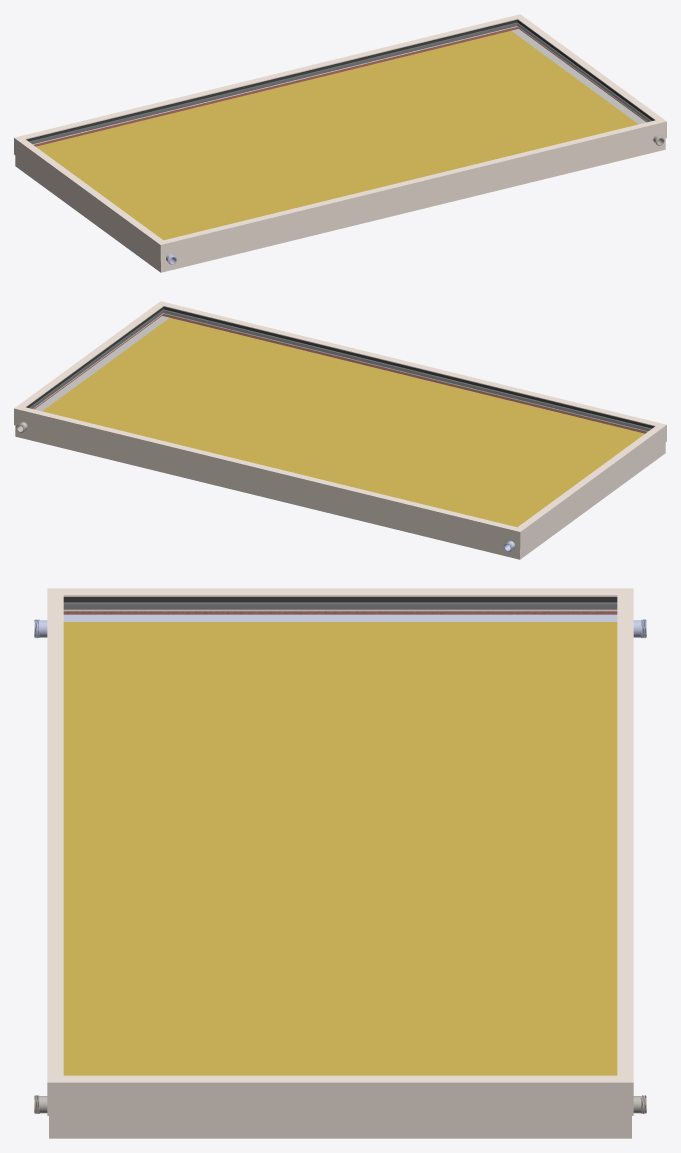
The model's file is solar-collector.glb.
The picture shows the model from 3 angles, top to bottom: view 1: azimuth 30°, elevation 25°; view 2: azimuth 150°, elevation 25°; view 3: azimuth 270°, elevation 25°; orthographic projection. The views are drawn at different scales.
Parts seen in each view (by area): view 1: Glass Cover-1, Absorber Plate-1, Case Top-1, Case Bottom^Case Assembly-1, Junta Glass bottom-1, Junta Glass Top-1, Side Insulation^Insulation_Solar Panel-1, Tuberia-1; view 2: Glass Cover-1, Absorber Plate-1, Case Top-1, Case Bottom^Case Assembly-1, Junta Glass bottom-1, Junta Glass Top-1, Side Insulation^Insulation_Solar Panel-1, Tuberia-1; view 3: Glass Cover-1, Absorber Plate-1, Case Top-1, Case Bottom^Case Assembly-1, Tuberia-2, Junta Glass bottom-1, Junta Glass Top-1, Side Insulation^Insulation_Solar Panel-1.
Part boxes in pixels (bbox=[...]): Glass Cover-1: bbox=[29, 22, 651, 239]; Absorber Plate-1: bbox=[36, 31, 638, 240]; Case Top-1: bbox=[14, 14, 666, 261]; Case Bottom^Case Assembly-1: bbox=[15, 26, 665, 272]; Junta Glass bottom-1: bbox=[29, 22, 651, 144]; Junta Glass Top-1: bbox=[26, 19, 654, 141]; Side Insulation^Insulation_Solar Panel-1: bbox=[34, 27, 647, 146]; Tuberia-1: bbox=[511, 29, 664, 145]; Glass Cover-1: bbox=[29, 309, 651, 526]; Absorber Plate-1: bbox=[42, 318, 644, 527]; Case Top-1: bbox=[14, 301, 666, 548]; Case Bottom^Case Assembly-1: bbox=[15, 313, 665, 559]; Junta Glass bottom-1: bbox=[29, 309, 651, 431]; Junta Glass Top-1: bbox=[26, 306, 654, 428]; Side Insulation^Insulation_Solar Panel-1: bbox=[33, 314, 646, 433]; Tuberia-1: bbox=[16, 316, 169, 432]; Glass Cover-1: bbox=[64, 602, 616, 1075]; Absorber Plate-1: bbox=[63, 622, 617, 1075]; Case Top-1: bbox=[47, 588, 633, 1115]; Case Bottom^Case Assembly-1: bbox=[49, 609, 631, 1138]; Tuberia-2: bbox=[34, 614, 646, 638]; Junta Glass bottom-1: bbox=[63, 602, 617, 609]; Junta Glass Top-1: bbox=[63, 597, 617, 602]; Side Insulation^Insulation_Solar Panel-1: bbox=[63, 611, 617, 614].
Bounding box in the file's own units: 2.01 × 0.107 × 1.05.
Materials: 8 (1 with a texture image).
